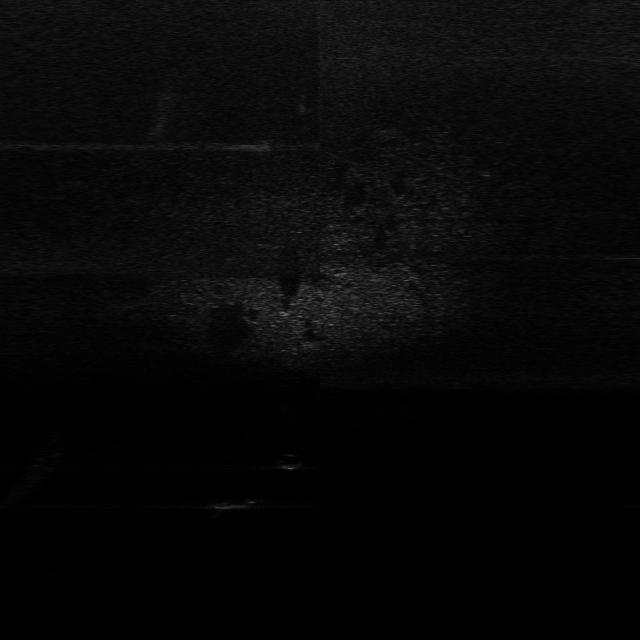ball: (274, 451, 307, 474)
square cage: (206, 491, 264, 514)
